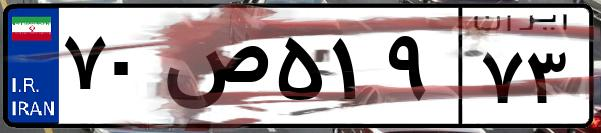0: (110, 28, 158, 98)
1: (330, 28, 385, 110)
3: (525, 38, 570, 115)
5: (270, 28, 330, 110)
7: (57, 26, 110, 100), (475, 38, 525, 113)
9: (385, 28, 445, 110)
ص: (158, 20, 270, 120)
